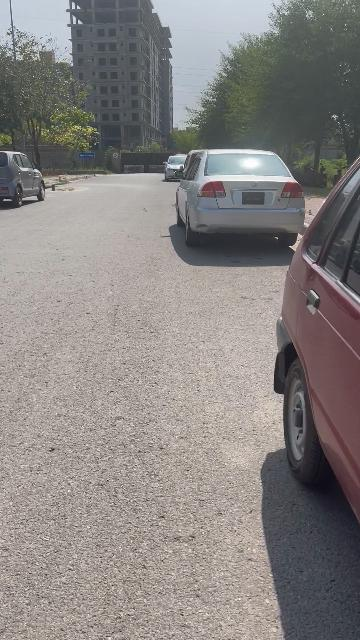plate: (240, 192, 266, 206)
